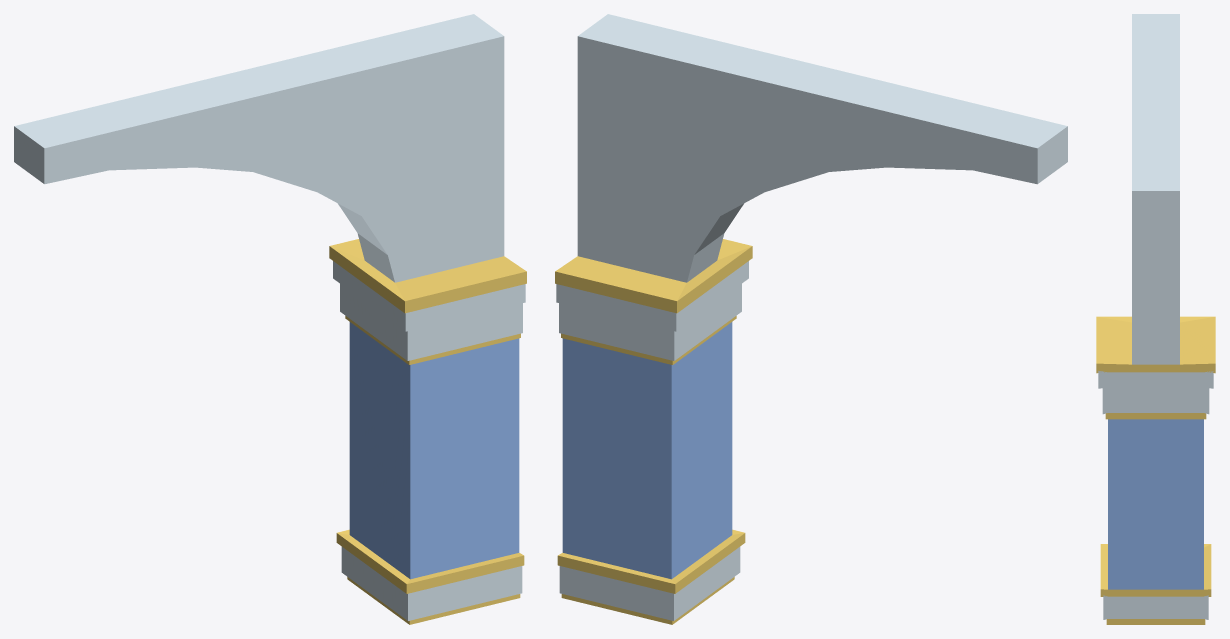
Rendered from stage4_2_arch.fbx.
3 views of the same model, side by side, from view 1: azimuth 30°, elevation 25°; view 2: azimuth 150°, elevation 25°; view 3: azimuth 270°, elevation 25° (orthographic). The views are drawn at different scales.
Visible parts, largest first — view 1: arch; view 2: arch; view 3: arch.
Part boxes in pixels (x1,y1,x2,y2): arch: (14, 14, 526, 624); arch: (555, 14, 1067, 624); arch: (1096, 14, 1215, 624).
Bounding box in the file's own units: 262 × 300 × 74.58.
